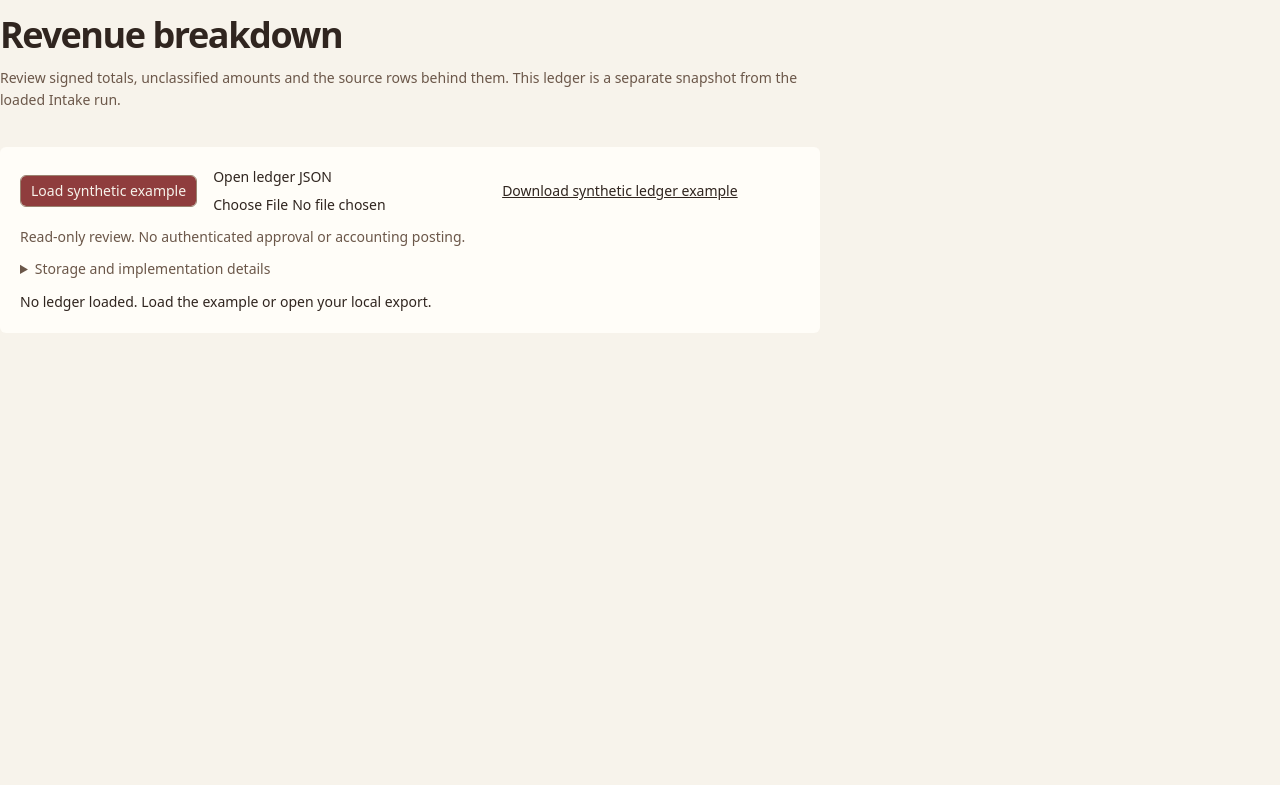
Scenario: leads with exact signed active and unclassified totals, then categories and source rows before history
Click the button "Load synthetic example". click: [109, 191]
box: [20,175,197,207]
(page scrolled)
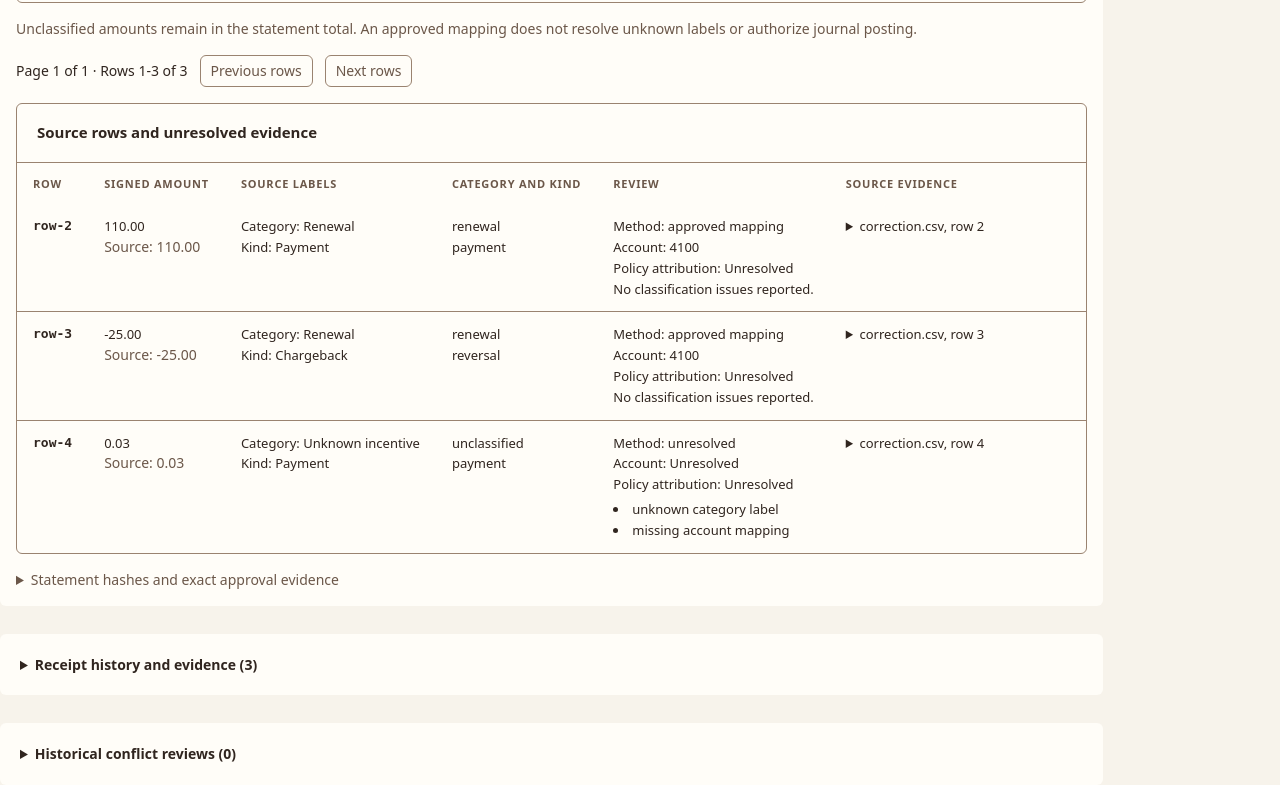
Expected: the text "-25.00" is shown, [104,326,142,344]
Expected: the text "Unclassified amounts remain in the statement total" is shown, [16,19,917,38]
